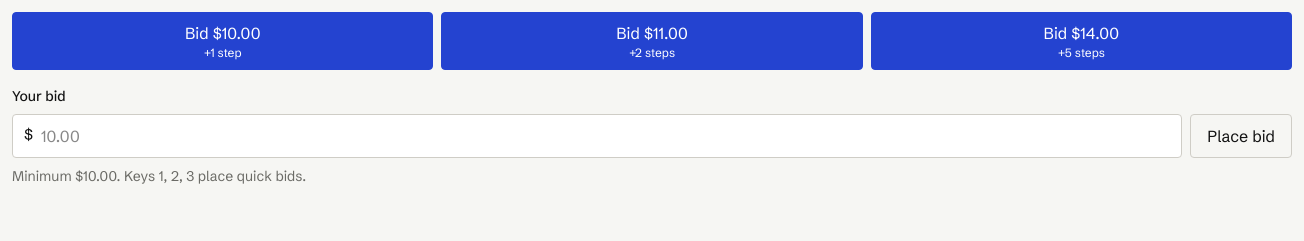
Test: TC-190: BID_TOO_HIGH renders its exact PRD copy
Click the button "Bid $10.00 +1 step" at (223, 41), box [12,12,433,70]
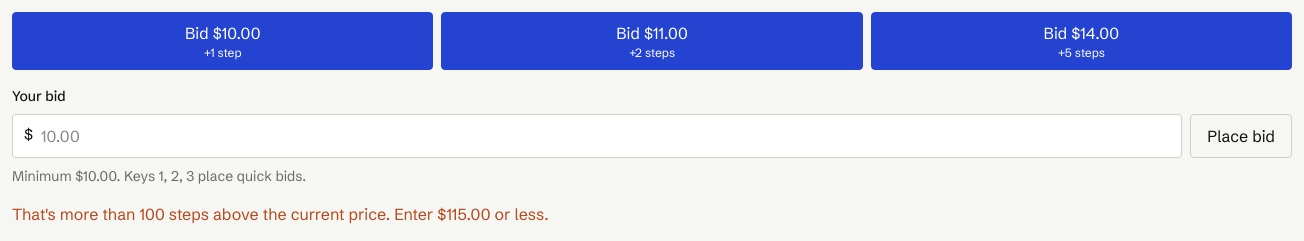
expect the message reads "That's more than 100 steps above the current price. Enter $115.00 or less.": met, box [12,204,549,224]
